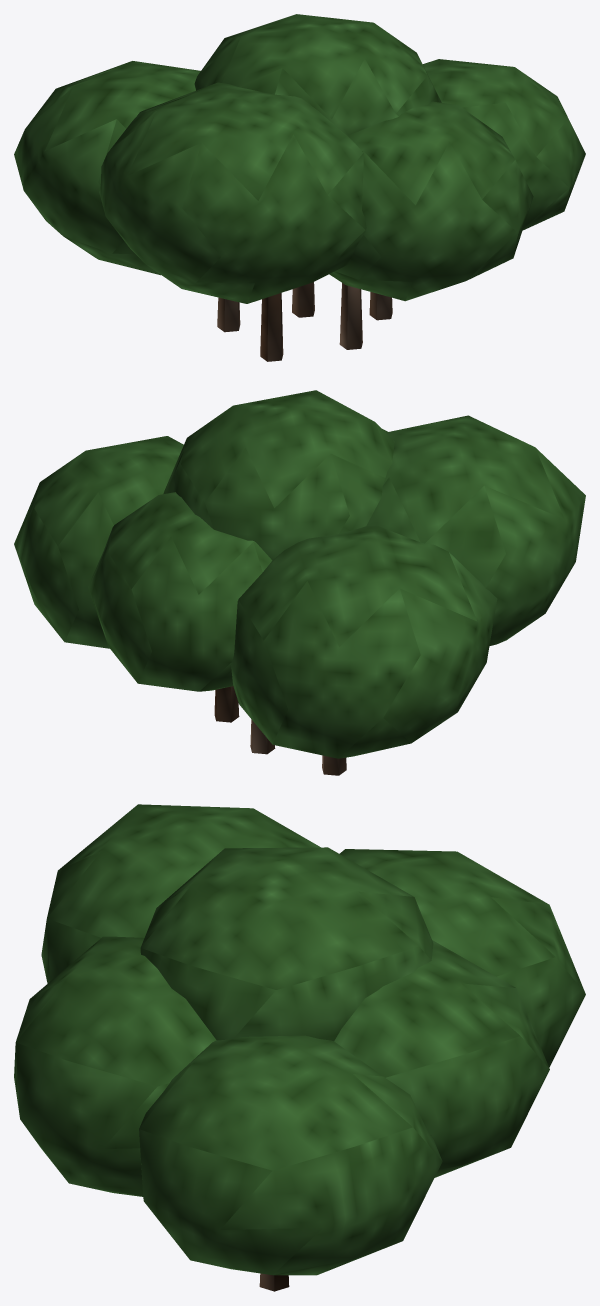
Rendered from shrub_2.glb.
3 renders of one model, top to bottom at view 1: azimuth 30°, elevation 25°; view 2: azimuth 150°, elevation 25°; view 3: azimuth 270°, elevation 25°, orthographic. The views are drawn at different scales.
Visible parts, largest first — view 1: shrub_2; view 2: shrub_2; view 3: shrub_2.
Boxes of the visible parts, box(x1,y1,x2,y2) form: shrub_2: box(14, 14, 585, 361); shrub_2: box(14, 390, 585, 775); shrub_2: box(14, 804, 585, 1291).
Size of the model in its own units: 1.96 by 1.22 by 1.66.
2 materials, 2 textured.
